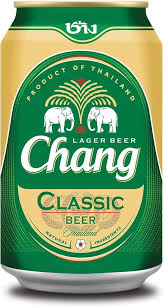can: (1, 1, 164, 297)
